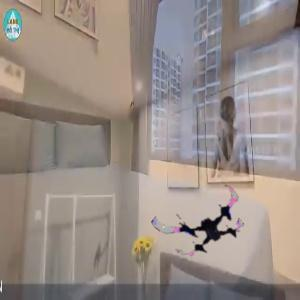drone: (164, 179, 253, 268)
